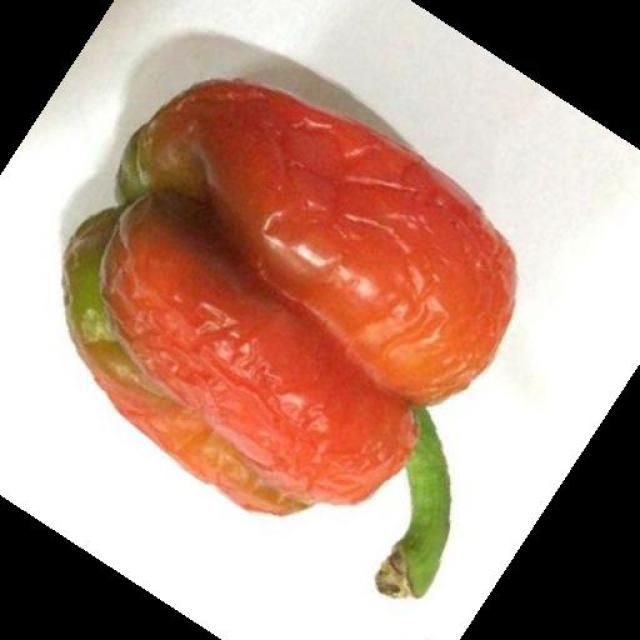Stale_Capsicum: (54, 101, 496, 558)
